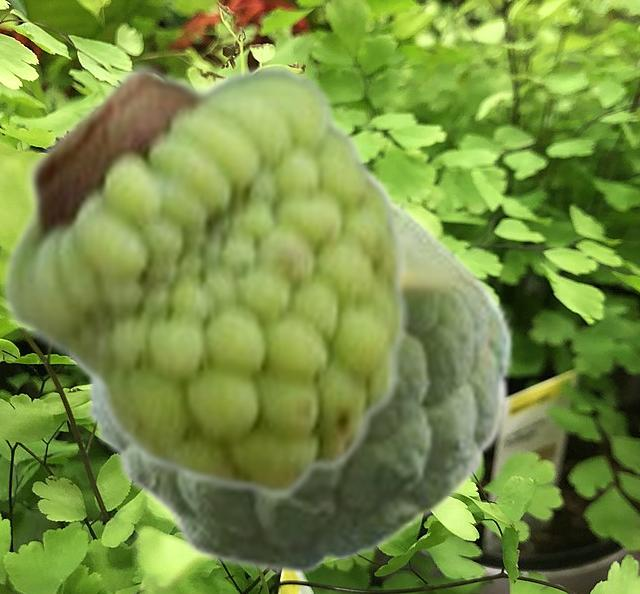atis: (68, 165, 516, 573), (1, 59, 411, 502)
